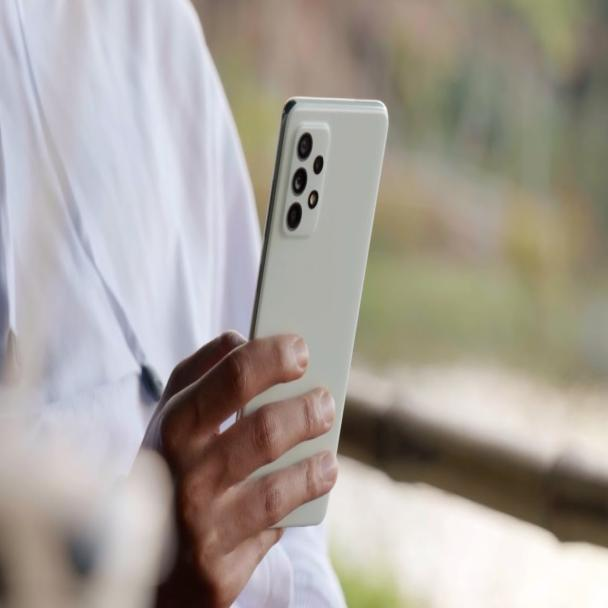Handphone: (219, 91, 395, 529)
